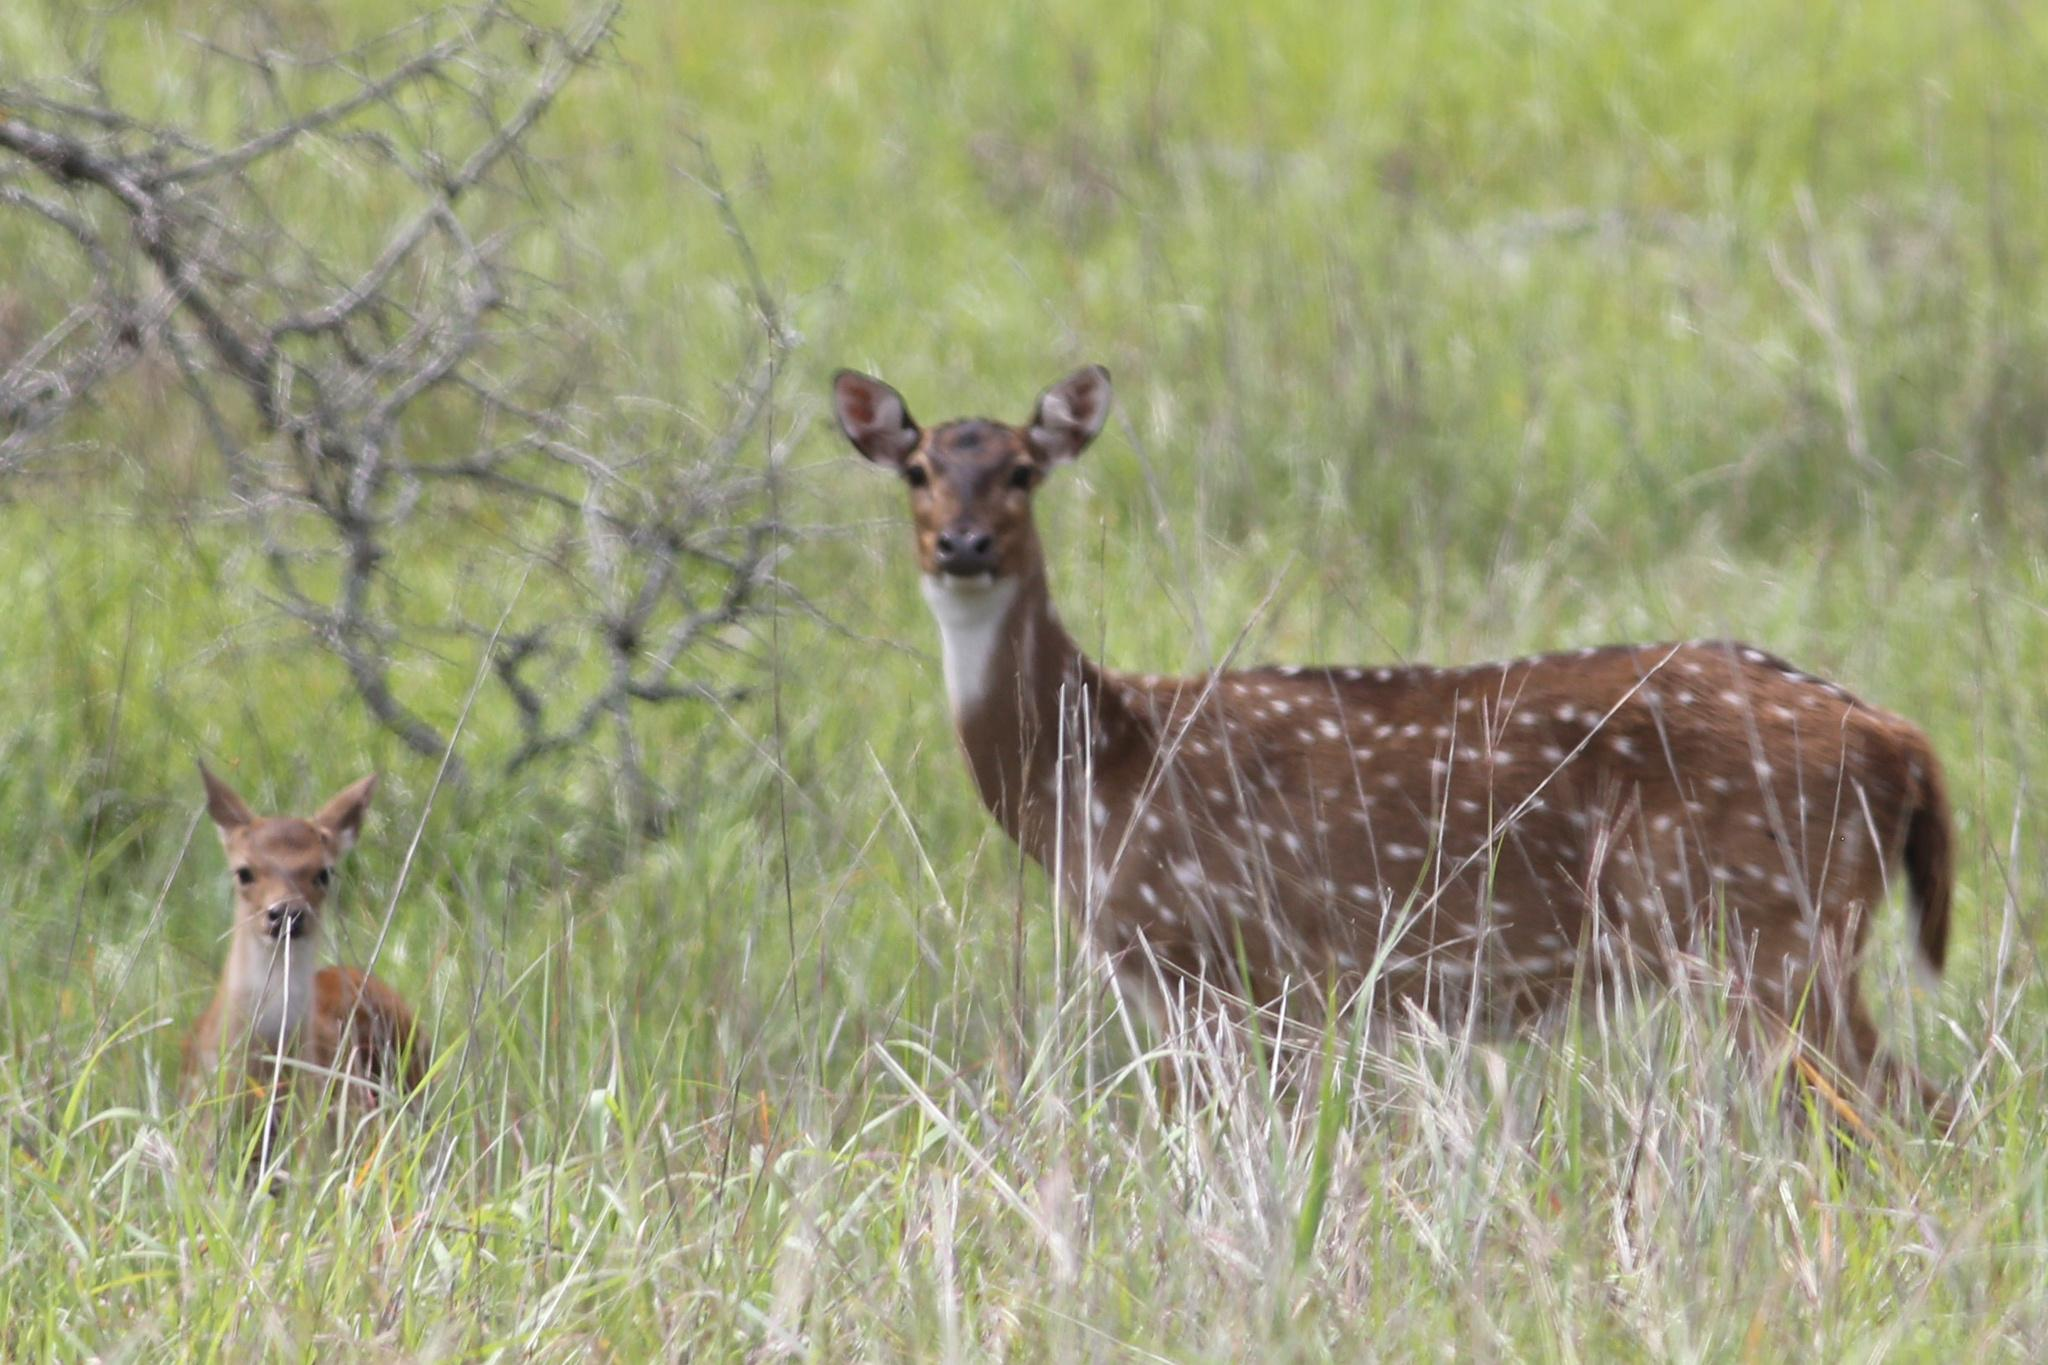Deer: (833, 367, 1954, 1098), (186, 762, 428, 1086)
